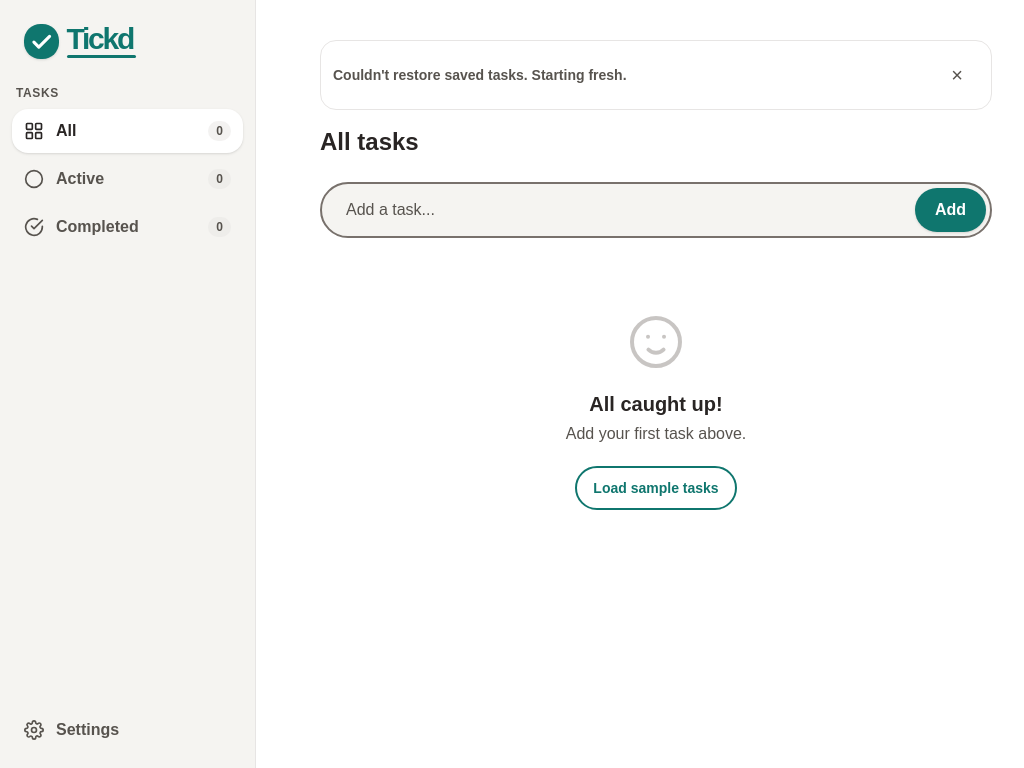
dismisses a discarded-load banner without deleting the stored bytes
Click the button named "Dismiss" at x=957, y=75, box [935,53,979,97]
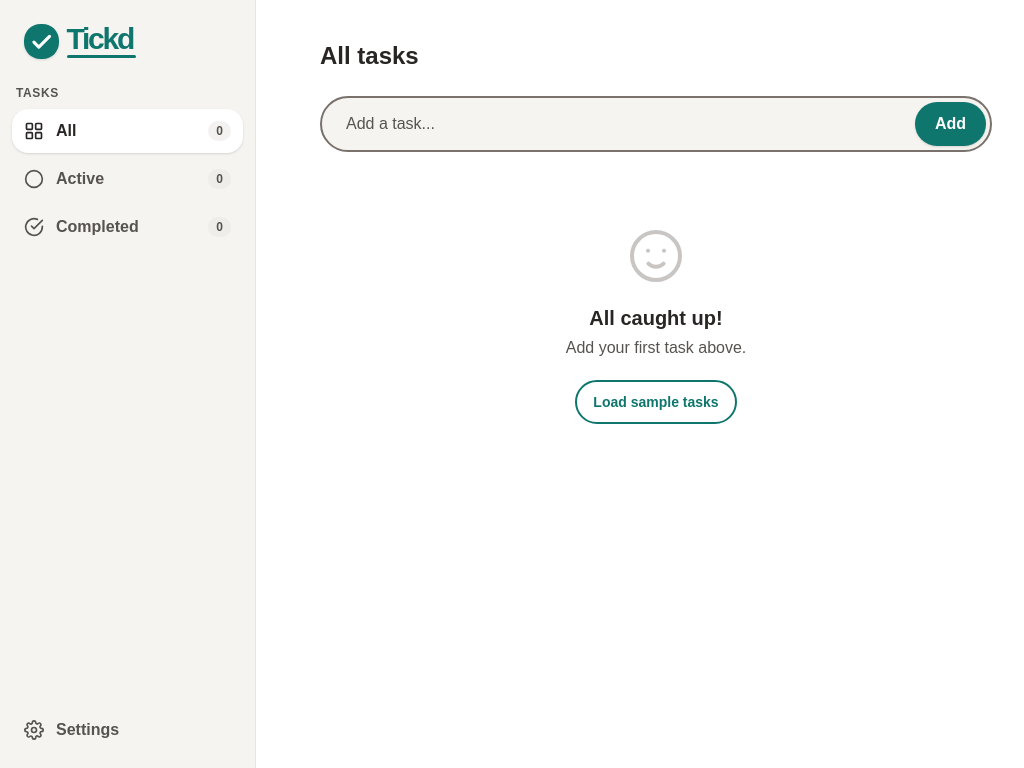
Result: the text "Couldn't restore saved tasks. Starting fresh." is gone
Result: the button "Dismiss" is gone
